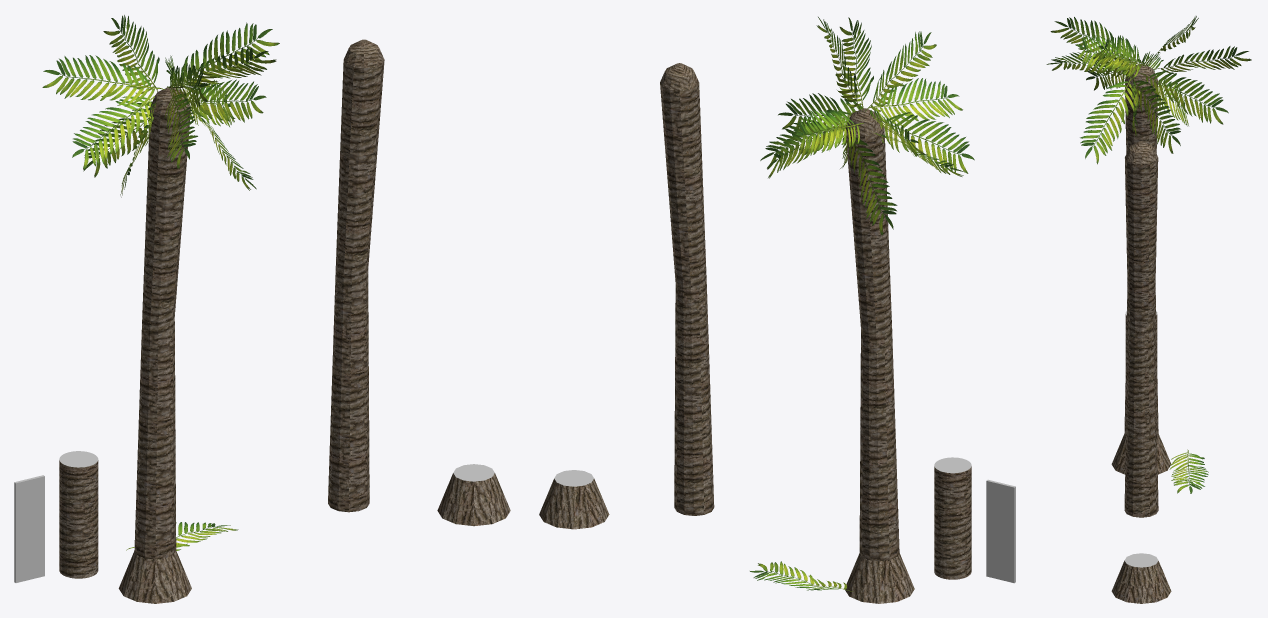
Rendered from tree_2.fbx.
The picture shows the model from 3 angles, left to right: view 1: azimuth 30°, elevation 25°; view 2: azimuth 150°, elevation 25°; view 3: azimuth 270°, elevation 25°; orthographic projection. The views are drawn at different scales.
Visible parts, largest first — view 1: Tree_2, Tree_2_Fallen, Log_2, Tree_2_Stump, Plank_2, Tree_2|FernLeaf_2|Dupli|2, Tree_2|FernLeaf_2|Dupli|11, Tree_2|FernLeaf_2|Dupli|5, Tree_2|FernLeaf_2|Dupli|8, Tree_2|FernLeaf_2|Dupli|12, Tree_2|FernLeaf_2|Dupli|6, Tree_2|FernLeaf_2|Dupli|3 (+4 smaller); view 2: Tree_2, Tree_2_Fallen, Log_2, Tree_2_Stump, Plank_2, Tree_2|FernLeaf_2|Dupli|1, Tree_2|FernLeaf_2|Dupli|3, Tree_2|FernLeaf_2|Dupli|10, Tree_2|FernLeaf_2|Dupli|12, Tree_2|FernLeaf_2|Dupli|, Tree_2|FernLeaf_2|Dupli|6, Tree_2|FernLeaf_2|Dupli|4 (+4 smaller); view 3: Tree_2_Fallen, Tree_2, Tree_2_Stump, Tree_2|FernLeaf_2|Dupli|7, Tree_2|FernLeaf_2|Dupli|4, Tree_2|FernLeaf_2|Dupli|9, Tree_2|FernLeaf_2|Dupli|, Tree_2|FernLeaf_2|Dupli|12, Tree_2|FernLeaf_2|Dupli|5, FernLeaf_2, Tree_2|FernLeaf_2|Dupli|6, Tree_2|FernLeaf_2|Dupli|3 (+3 smaller).
Boxes of the visible parts, x1=… form: Tree_2: x1=118, y1=86, x2=191, y2=603; Tree_2_Fallen: x1=328, y1=39, x2=384, y2=512; Log_2: x1=59, y1=451, x2=98, y2=578; Tree_2_Stump: x1=437, y1=464, x2=510, y2=526; Plank_2: x1=14, y1=475, x2=44, y2=582; Tree_2|FernLeaf_2|Dupli|2: x1=42, y1=55, x2=164, y2=106; Tree_2|FernLeaf_2|Dupli|11: x1=72, y1=96, x2=154, y2=169; Tree_2|FernLeaf_2|Dupli|5: x1=171, y1=22, x2=279, y2=92; Tree_2|FernLeaf_2|Dupli|8: x1=185, y1=79, x2=266, y2=122; Tree_2|FernLeaf_2|Dupli|12: x1=103, y1=15, x2=159, y2=93; Tree_2|FernLeaf_2|Dupli|6: x1=170, y1=47, x2=276, y2=88; Tree_2|FernLeaf_2|Dupli|3: x1=164, y1=90, x2=197, y2=169; Tree_2: x1=845, y1=108, x2=914, y2=603; Tree_2_Fallen: x1=660, y1=63, x2=714, y2=515; Log_2: x1=934, y1=457, x2=971, y2=579; Tree_2_Stump: x1=539, y1=470, x2=609, y2=529; Plank_2: x1=986, y1=479, x2=1015, y2=583; Tree_2|FernLeaf_2|Dupli|1: x1=873, y1=112, x2=974, y2=173; Tree_2|FernLeaf_2|Dupli|3: x1=868, y1=78, x2=962, y2=125; Tree_2|FernLeaf_2|Dupli|10: x1=845, y1=137, x2=897, y2=235; Tree_2|FernLeaf_2|Dupli|12: x1=795, y1=109, x2=863, y2=155; Tree_2|FernLeaf_2|Dupli|: x1=865, y1=31, x2=936, y2=111; Tree_2|FernLeaf_2|Dupli|6: x1=839, y1=17, x2=873, y2=111; Tree_2|FernLeaf_2|Dupli|4: x1=767, y1=111, x2=856, y2=178; Tree_2_Fallen: x1=1124, y1=141, x2=1158, y2=517; Tree_2: x1=1111, y1=64, x2=1170, y2=474; Tree_2_Stump: x1=1111, y1=553, x2=1171, y2=603; Tree_2|FernLeaf_2|Dupli|7: x1=1080, y1=77, x2=1140, y2=164; Tree_2|FernLeaf_2|Dupli|4: x1=1139, y1=70, x2=1228, y2=124; Tree_2|FernLeaf_2|Dupli|9: x1=1131, y1=76, x2=1180, y2=153; Tree_2|FernLeaf_2|Dupli|: x1=1050, y1=17, x2=1144, y2=70; Tree_2|FernLeaf_2|Dupli|12: x1=1153, y1=46, x2=1251, y2=73; Tree_2|FernLeaf_2|Dupli|5: x1=1093, y1=35, x2=1145, y2=78; FernLeaf_2: x1=1169, y1=449, x2=1208, y2=493; Tree_2|FernLeaf_2|Dupli|6: x1=1076, y1=34, x2=1144, y2=77; Tree_2|FernLeaf_2|Dupli|3: x1=1046, y1=52, x2=1136, y2=78.
Size of the model in its own units: 2717 by 2974 by 1230.
